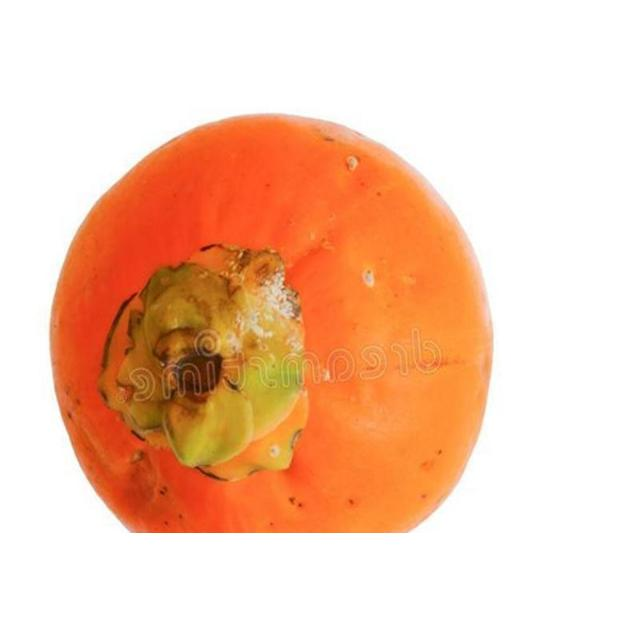good: (47, 113, 496, 533)
